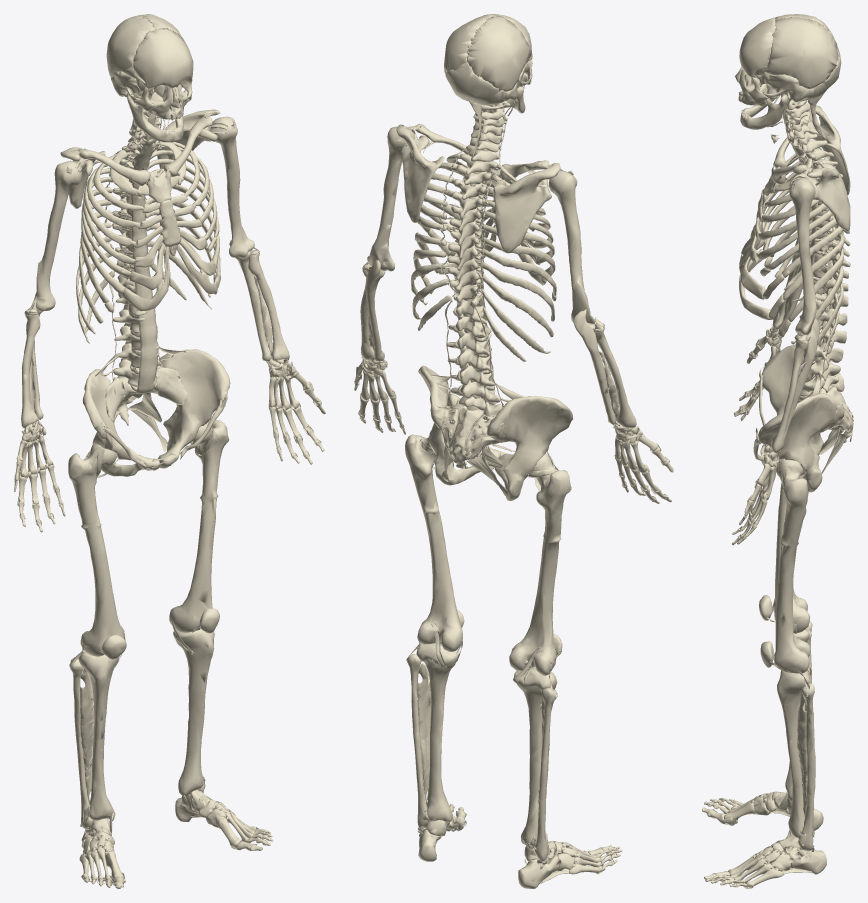
File: skeletal.glb
The picture shows the model from 3 angles, left to right: view 1: azimuth 30°, elevation 25°; view 2: azimuth 150°, elevation 25°; view 3: azimuth 270°, elevation 25°; orthographic projection. The views are drawn at different scales.
Parts seen in each view (by area): view 1: VF_femur_right, VF_hip_left, VF_femur_left, VF_tibia_left, W_ZA934E4140, VF_tibia_right, W_FJ3200, VF_hip_right, VF_humerus_right, VF_humerus_left, W_FJ3380, W_FJ1392 (+16 smaller); view 2: VF_femur_right, VF_femur_left, VF_hip_right, W_FJ3380, VF_scapula_right, VF_tibia_left, VF_tibia_right, VF_humerus_right, VF_scapula_left, VF_humerus_left, VF_hip_left, VF_fibula_right (+15 smaller); view 3: VF_femur_left, W_FJ3274, VF_hip_left, VF_tibia_left, VF_humerus_left, VF_hip_right, VF_scapula_left, W_FJ3200, VF_fibula_left, VF_scapula_right, VF_femur_right, VF_radius_left (+26 smaller).
Part boxes in pixels (x1,y1,x2,y2): VF_femur_right: (68,443,124,656); VF_hip_left: (158,349,230,468); VF_femur_left: (169,420,229,632); VF_tibia_left: (173,628,214,796); W_ZA934E4140: (131,111,158,393); VF_tibia_right: (78,651,119,820); W_FJ3200: (133,28,193,88); VF_hip_right: (82,369,160,476); VF_humerus_right: (35,160,81,311); VF_humerus_left: (211,116,254,258); W_FJ3380: (106,15,156,78); W_FJ1392: (80,669,94,804); VF_femur_right: (509,453,571,675); VF_femur_left: (405,430,462,651); VF_hip_right: (486,396,573,501); W_FJ3380: (467,15,529,92); VF_scapula_right: (493,163,560,253); VF_tibia_left: (416,641,458,822); VF_tibia_right: (514,667,557,848); VF_humerus_right: (548,170,595,323); VF_scapula_left: (396,124,444,222); VF_humerus_left: (367,126,415,271); VF_hip_left: (418,365,500,485); VF_fibula_right: (534,688,557,861); VF_femur_left: (774,459,810,673); W_FJ3274: (764,17,838,88); VF_hip_left: (758,393,843,492); VF_tibia_left: (777,668,812,837); VF_humerus_left: (789,178,816,334); VF_hip_right: (761,344,844,455); VF_scapula_left: (789,163,850,231); W_FJ3200: (739,17,776,77); VF_fibula_left: (798,682,815,850); VF_scapula_right: (807,105,850,195); VF_femur_right: (772,481,810,632); VF_radius_left: (771,336,807,452).
Size of the model in its own units: 0.6522 by 1.66 by 0.2724.
